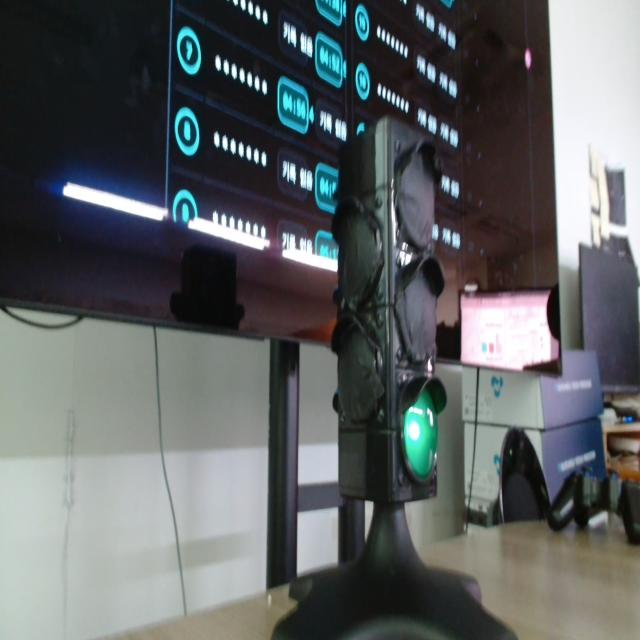green_light: (404, 389, 437, 480)
